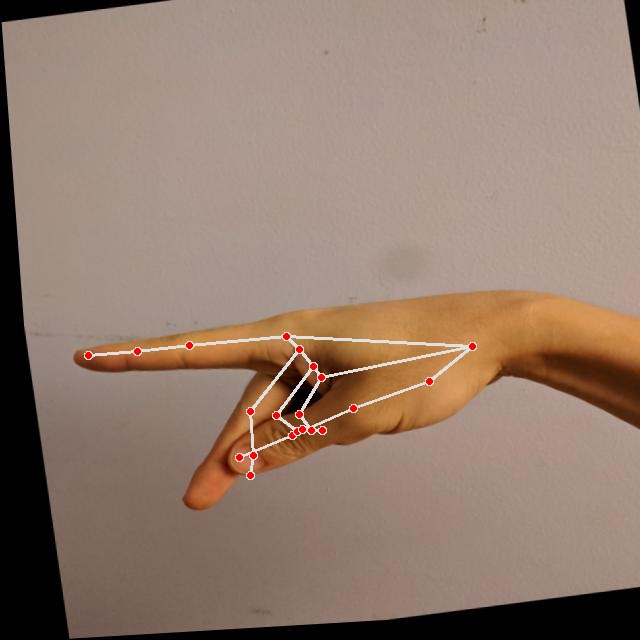P: (58, 280, 530, 533)
